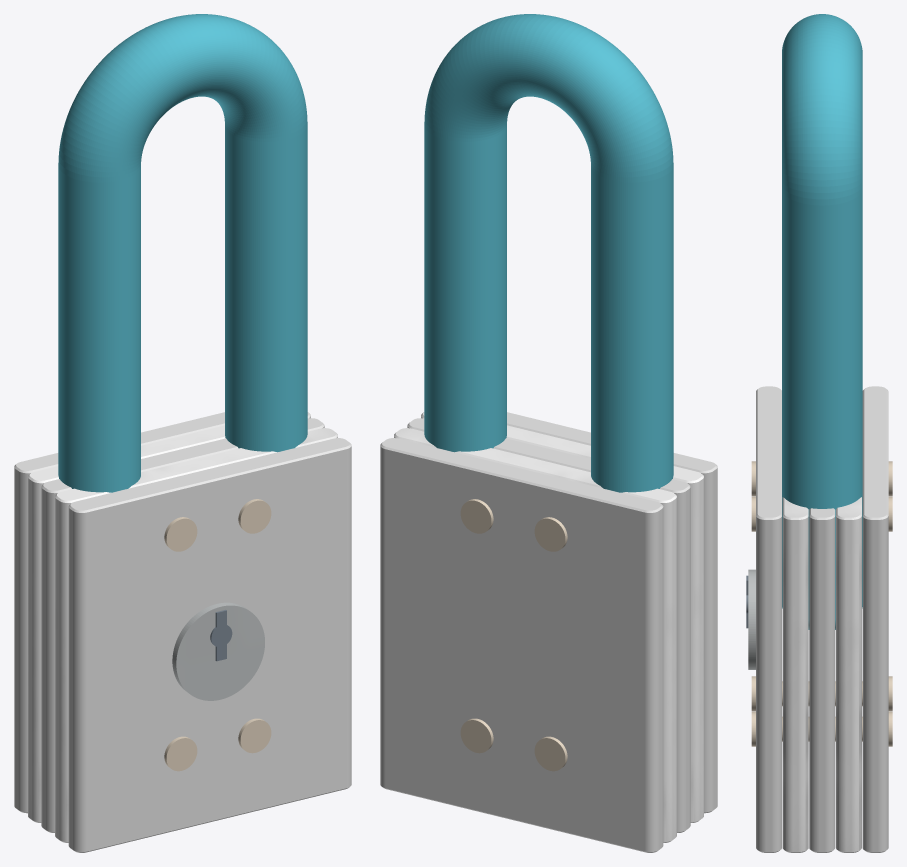
The model's file is Equipment_Lock__0003.glb.
The picture shows the model from 3 angles, left to right: view 1: azimuth 30°, elevation 25°; view 2: azimuth 150°, elevation 25°; view 3: azimuth 270°, elevation 25°; orthographic projection. The views are drawn at different scales.
Visible parts, largest first — view 1: body::plate_0, shackle::shackle_bar, body::plate_1, body::plate_2, body::plate_4, body::keyway_disc, body::plate_3, body::rivet_2, body::rivet_0, body::rivet_3, body::rivet_1, body::keyway_slot; view 2: body::plate_4, shackle::shackle_bar, body::plate_3, body::plate_2, body::plate_0, body::plate_1, body::rivet_2, body::rivet_0, body::rivet_3, body::rivet_1; view 3: shackle::shackle_bar, body::plate_4, body::plate_0, body::plate_1, body::plate_2, body::plate_3, body::keyway_disc, body::rivet_0, body::rivet_1, body::rivet_2, body::rivet_3.
Part boxes in pixels (box(x1,y1,x2,y2)): body::plate_0: box(68, 438, 351, 852); shackle::shackle_bar: box(58, 14, 307, 492); body::plate_1: box(55, 428, 337, 842); body::plate_2: box(41, 418, 324, 832); body::plate_4: box(14, 412, 224, 813); body::keyway_disc: box(172, 602, 264, 700); body::plate_3: box(28, 412, 310, 822); body::rivet_2: box(164, 517, 197, 551); body::rivet_0: box(164, 736, 197, 771); body::rivet_3: box(238, 499, 271, 533); body::rivet_1: box(238, 718, 271, 753); body::keyway_slot: box(210, 609, 232, 661); body::plate_4: box(380, 438, 663, 852); shackle::shackle_bar: box(424, 14, 673, 492); body::plate_3: box(394, 428, 676, 842); body::plate_2: box(407, 418, 690, 832); body::plate_0: box(507, 412, 717, 813); body::plate_1: box(421, 412, 703, 822); body::rivet_2: box(534, 517, 567, 551); body::rivet_0: box(534, 736, 567, 771); body::rivet_3: box(460, 499, 493, 533); body::rivet_1: box(460, 718, 493, 753); shackle::shackle_bar: box(782, 14, 862, 629); body::plate_4: box(862, 386, 888, 852); body::plate_0: box(756, 386, 781, 852); body::plate_1: box(782, 497, 808, 852); body::plate_2: box(809, 508, 835, 852); body::plate_3: box(836, 497, 861, 852); body::keyway_disc: box(748, 569, 755, 669); body::rivet_0: box(751, 676, 892, 711); body::rivet_1: box(751, 711, 892, 746); body::rivet_2: box(751, 461, 892, 496); body::rivet_3: box(751, 496, 892, 531).
Size of the model in its own units: 0.045 by 0.1203 by 0.021.
6 materials, 3 textured.
